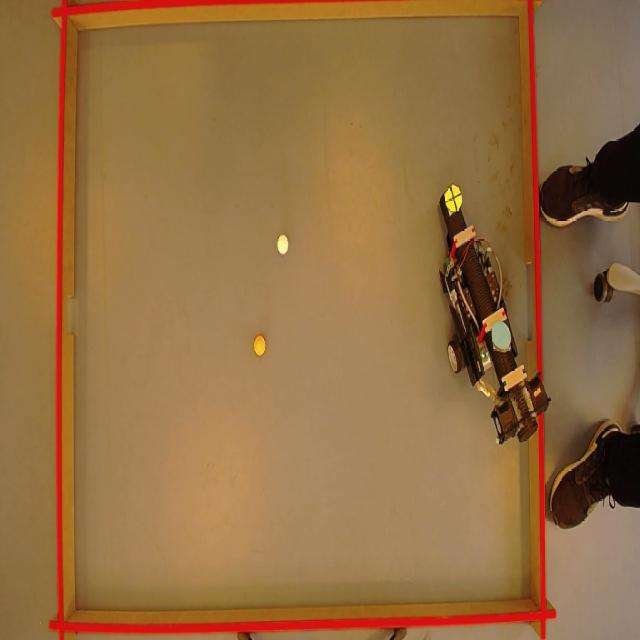orange: (252, 334, 268, 356)
robot: (430, 181, 548, 456)
robot-front: (444, 184, 463, 213)
robot-rear: (493, 322, 514, 351)
white: (275, 234, 289, 254)
